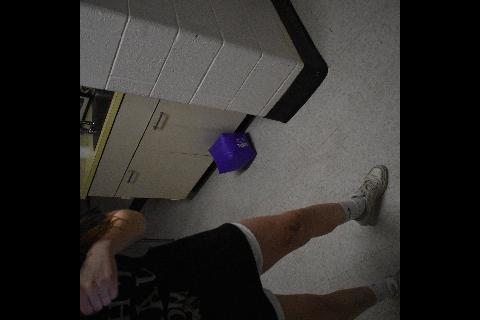cube: (208, 132, 258, 174)
